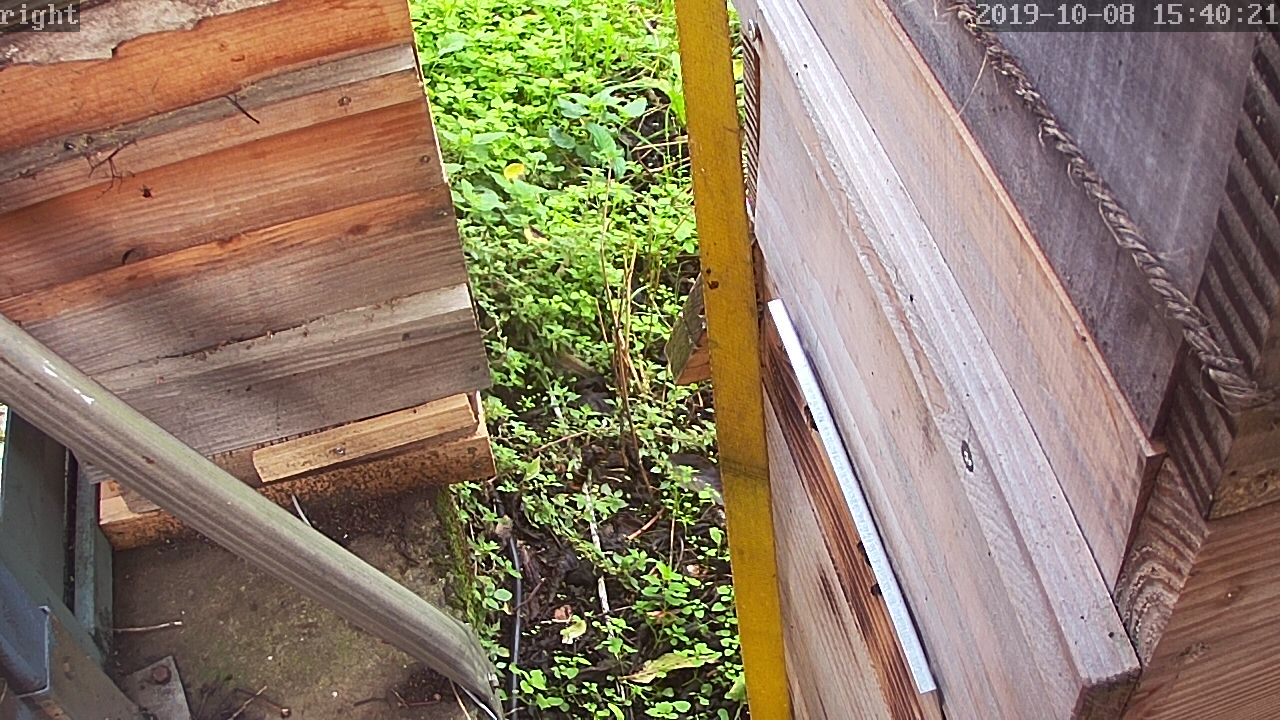hornet: (708, 548, 740, 599)
